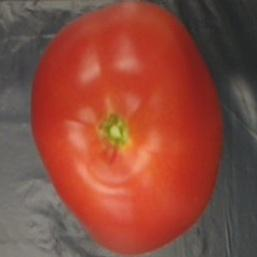unripe: (29, 0, 228, 257)
